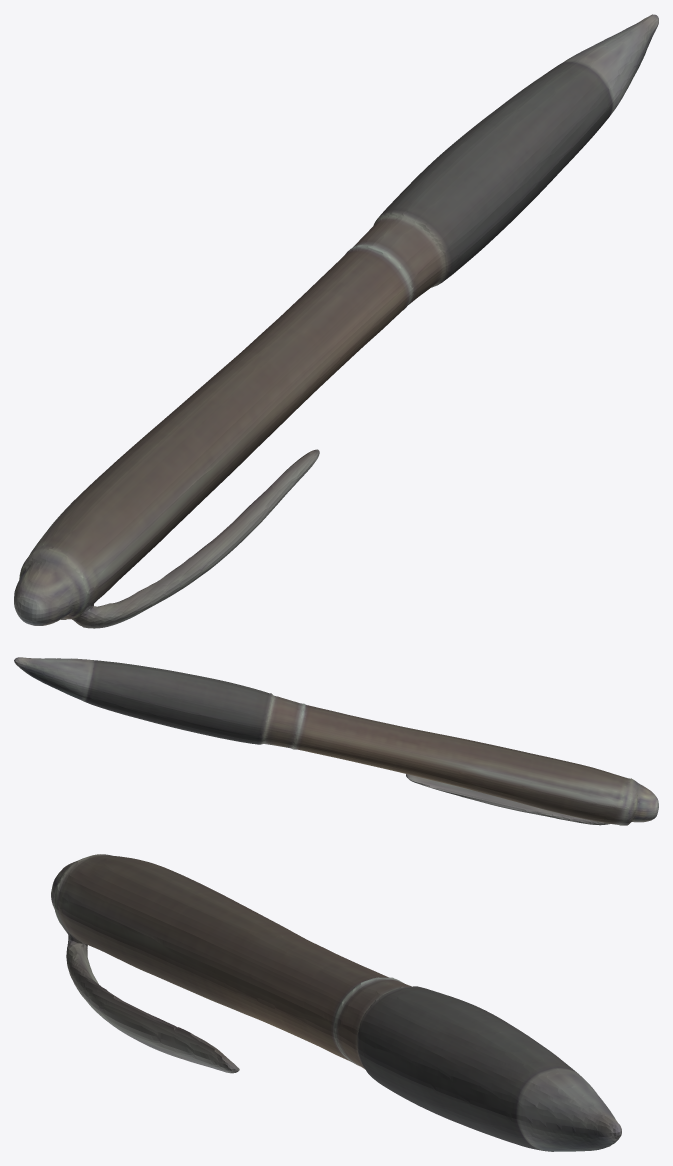
Rendered from frame_0032_source_000032_object.glb.
3 views of the same model, one above another, from view 1: azimuth 30°, elevation 25°; view 2: azimuth 150°, elevation 25°; view 3: azimuth 270°, elevation 25° (orthographic). The views are drawn at different scales.
Parts seen in each view (by area): view 1: world; view 2: world; view 3: world.
Boxes of the visible parts, x1,y1,x2,y2 form: world: (14,14,658,628); world: (14,657,658,825); world: (51,854,621,1151).
Bounding box in the file's own units: 0.1708 × 0.0492 × 0.0829.
